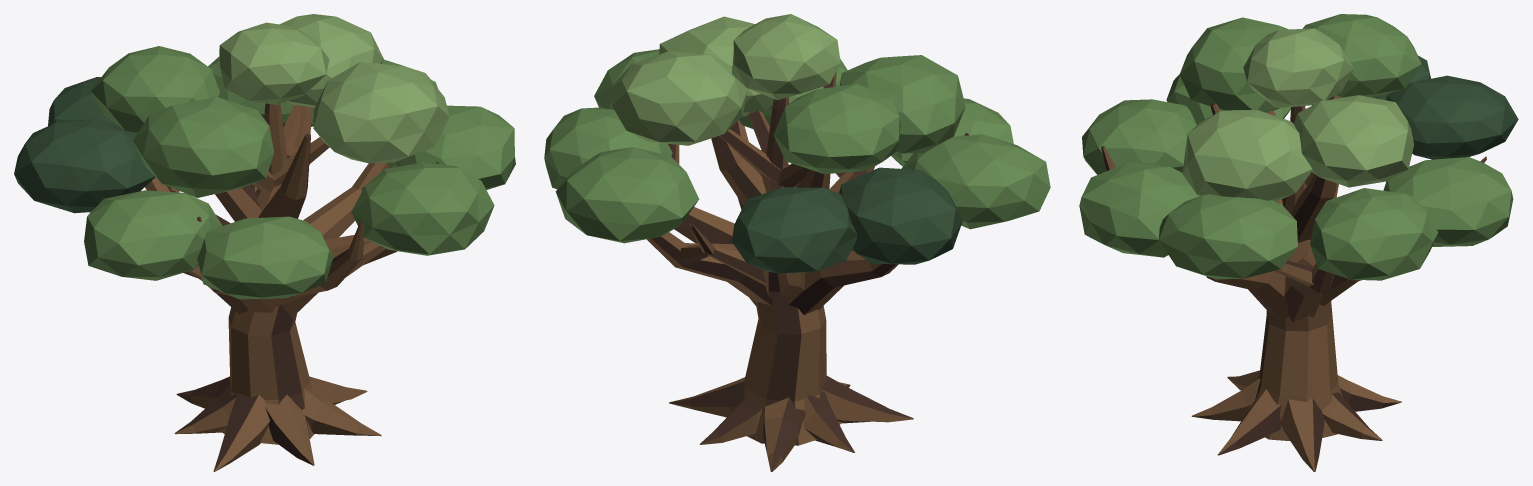
The model's file is great-oak.glb.
The picture shows the model from 3 angles, left to right: view 1: azimuth 30°, elevation 25°; view 2: azimuth 150°, elevation 25°; view 3: azimuth 270°, elevation 25°; orthographic projection. The views are drawn at different scales.
Visible parts, largest first — view 1: great_oak_canopy_mid, great_oak_canopy_light, great_oak_canopy_shadow, great_oak_roots, great_oak_branches, great_oak_trunk, great_oak_twigs; view 2: great_oak_canopy_mid, great_oak_canopy_light, great_oak_canopy_shadow, great_oak_branches, great_oak_roots, great_oak_trunk, great_oak_twigs; view 3: great_oak_canopy_mid, great_oak_canopy_light, great_oak_canopy_shadow, great_oak_roots, great_oak_trunk, great_oak_branches, great_oak_twigs.
Boxes of the visible parts, x1,y1,x2,y2 form: great_oak_canopy_mid: [84, 46, 515, 299]; great_oak_canopy_light: [219, 14, 449, 163]; great_oak_canopy_shadow: [14, 77, 155, 213]; great_oak_roots: [174, 376, 381, 471]; great_oak_branches: [89, 105, 438, 317]; great_oak_trunk: [219, 155, 314, 444]; great_oak_twigs: [171, 103, 385, 280]; great_oak_canopy_mid: [544, 49, 1050, 243]; great_oak_canopy_light: [610, 14, 840, 145]; great_oak_canopy_shadow: [732, 167, 962, 273]; great_oak_branches: [647, 72, 968, 314]; great_oak_roots: [669, 376, 913, 471]; great_oak_trunk: [743, 152, 841, 445]; great_oak_twigs: [668, 97, 846, 285]; great_oak_canopy_mid: [1079, 14, 1513, 280]; great_oak_canopy_light: [1182, 28, 1413, 201]; great_oak_canopy_shadow: [1311, 55, 1518, 159]; great_oak_roots: [1191, 370, 1401, 471]; great_oak_trunk: [1255, 182, 1342, 440]; great_oak_branches: [1101, 96, 1361, 322]; great_oak_twigs: [1266, 97, 1486, 286].
Size of the model in its own units: 3.8 by 3.4 by 3.49.
